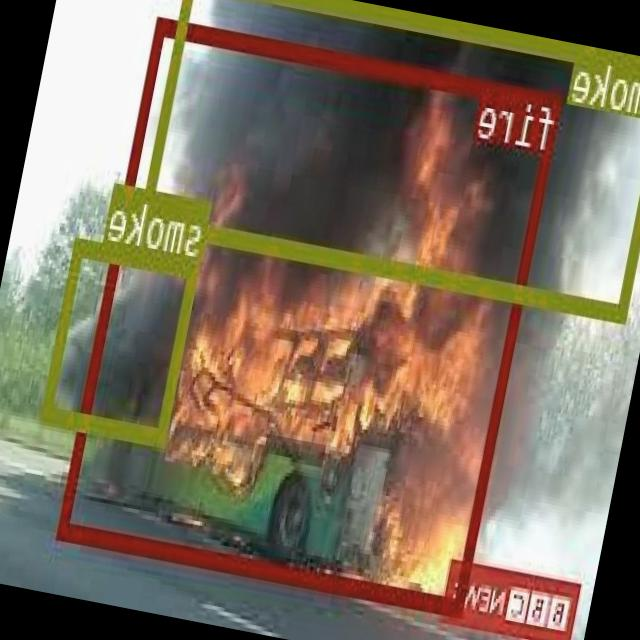fire: (59, 15, 566, 614)
smoke: (141, 0, 640, 318), (44, 235, 204, 442)
